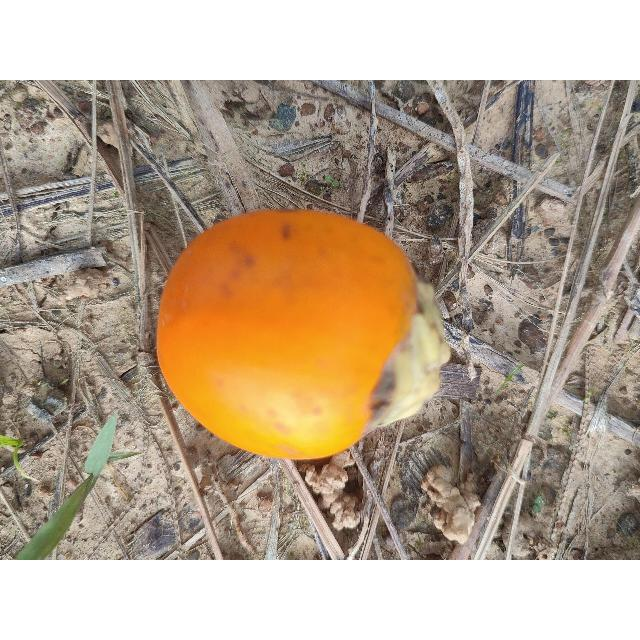good: (155, 209, 452, 462)
